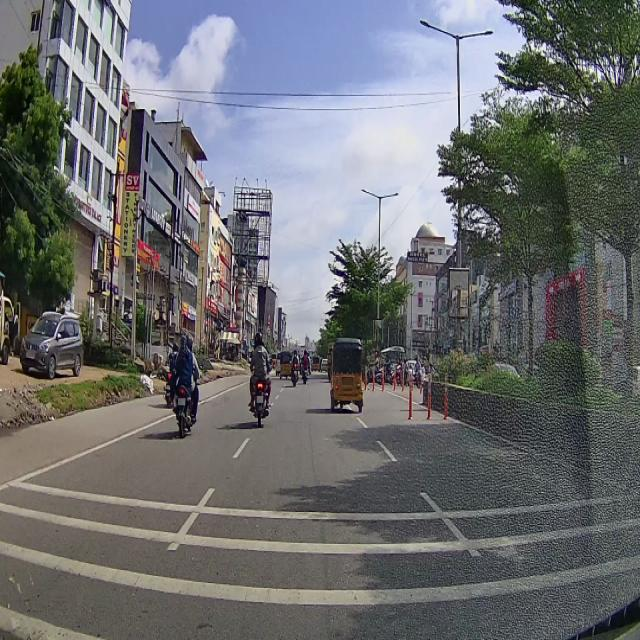auto ahead at: (326, 329, 367, 423)
barrier ahead at: (442, 364, 456, 428), (425, 370, 436, 425), (406, 366, 416, 421)
motorcycle ahead at: (169, 374, 202, 441), (242, 367, 278, 428)
